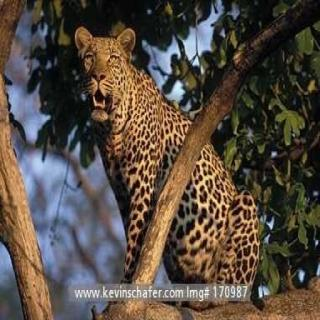Leopard: (39, 10, 290, 278)
